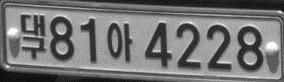1: (78, 18, 103, 62)
2: (206, 23, 232, 70), (175, 22, 201, 68)
4: (144, 22, 172, 67)
8: (236, 25, 264, 71), (49, 15, 74, 60)
대구_V: (20, 14, 47, 58)
아: (106, 22, 133, 62)
